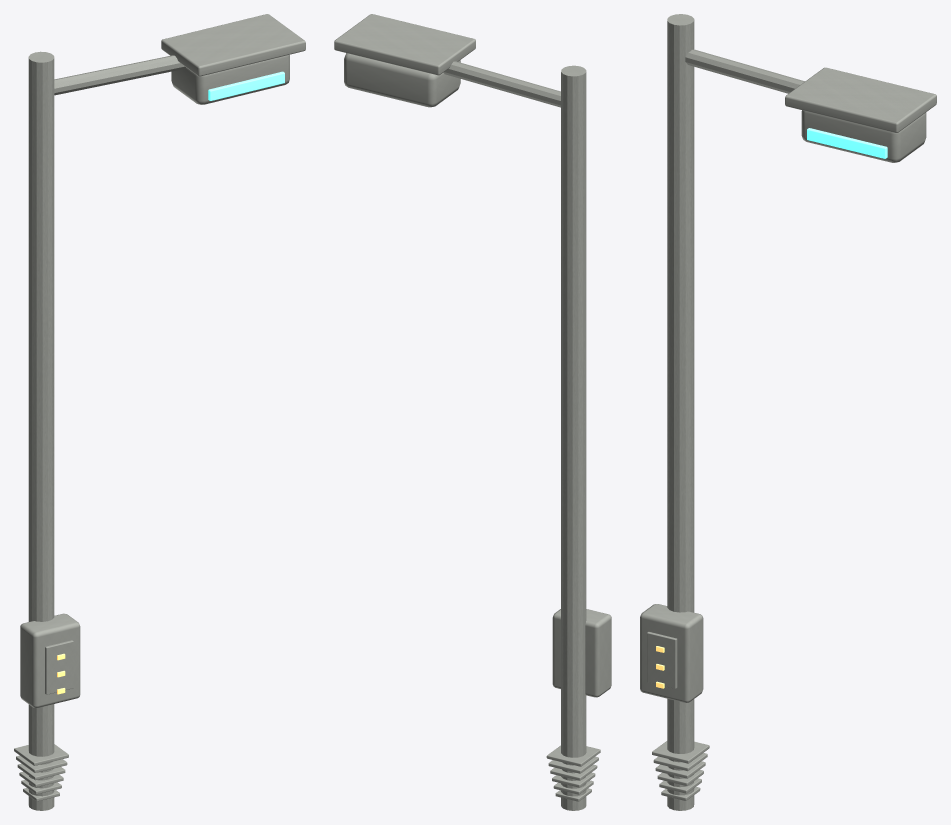
File: night_market_streetlighting.glb
3 renders of one model, left to right at view 1: azimuth 30°, elevation 25°; view 2: azimuth 150°, elevation 25°; view 3: azimuth 330°, elevation 25°, orthographic. The views are drawn at different scales.
Parts seen in each view (by area): view 1: ENV_NMK_Lamp_Pole, ENV_NMK_Lamp_Rain_Hood, ENV_NMK_Lamp_Junction, ENV_NMK_Lamp_Housing, ENV_NMK_Lamp_Arm, ENV_NMK_Lamp_Hatch, ENV_NMK_Lamp_Diffuser, ENV_NMK_Lamp_Base_Rib.005; view 2: ENV_NMK_Lamp_Pole, ENV_NMK_Lamp_Rain_Hood, ENV_NMK_Lamp_Housing, ENV_NMK_Lamp_Junction, ENV_NMK_Lamp_Arm, ENV_NMK_Lamp_Base_Rib.005; view 3: ENV_NMK_Lamp_Pole, ENV_NMK_Lamp_Rain_Hood, ENV_NMK_Lamp_Junction, ENV_NMK_Lamp_Housing, ENV_NMK_Lamp_Arm, ENV_NMK_Lamp_Hatch, ENV_NMK_Lamp_Diffuser, ENV_NMK_Lamp_Base_Rib.005.
Part boxes in pixels (<box>): ENV_NMK_Lamp_Pole: <box>28,51,54,810</box>; ENV_NMK_Lamp_Rain_Hood: <box>161,14,305,76</box>; ENV_NMK_Lamp_Junction: <box>20,613,80,707</box>; ENV_NMK_Lamp_Housing: <box>171,54,289,104</box>; ENV_NMK_Lamp_Arm: <box>54,55,185,95</box>; ENV_NMK_Lamp_Hatch: <box>45,640,73,694</box>; ENV_NMK_Lamp_Diffuser: <box>208,71,284,100</box>; ENV_NMK_Lamp_Base_Rib.005: <box>14,744,68,765</box>; ENV_NMK_Lamp_Pole: <box>561,65,586,810</box>; ENV_NMK_Lamp_Rain_Hood: <box>334,14,475,75</box>; ENV_NMK_Lamp_Housing: <box>344,53,460,107</box>; ENV_NMK_Lamp_Junction: <box>552,609,611,697</box>; ENV_NMK_Lamp_Arm: <box>443,61,560,107</box>; ENV_NMK_Lamp_Base_Rib.005: <box>546,745,600,766</box>; ENV_NMK_Lamp_Pole: <box>667,14,694,810</box>; ENV_NMK_Lamp_Rain_Hood: <box>785,67,936,132</box>; ENV_NMK_Lamp_Junction: <box>640,604,703,702</box>; ENV_NMK_Lamp_Housing: <box>801,110,926,162</box>; ENV_NMK_Lamp_Arm: <box>685,49,804,93</box>; ENV_NMK_Lamp_Hatch: <box>647,631,677,688</box>; ENV_NMK_Lamp_Diffuser: <box>807,128,887,158</box>; ENV_NMK_Lamp_Base_Rib.005: <box>652,741,709,763</box>.
Size of what is drawn, in the model's own units: 2.07 by 5.7 by 0.545.
5 materials, 5 textured.
